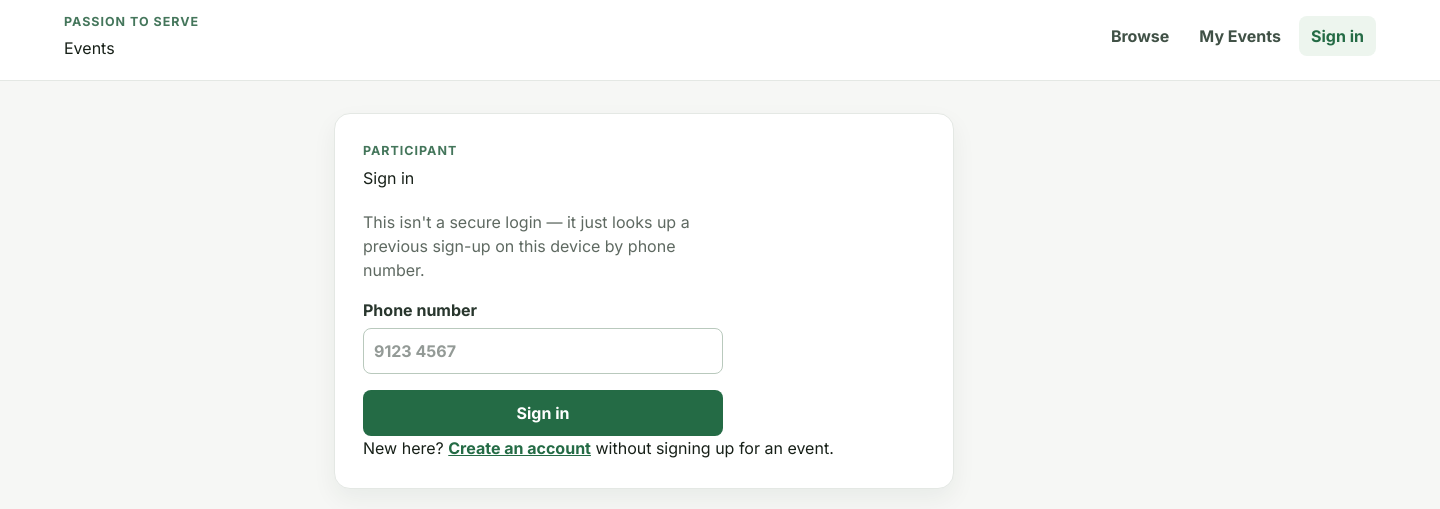
Test: Sign in › restores a returning participant's identity by phone number, without RSVPing
Type "+6591234567" into the field labelled "Phone number".
click(543, 351); type("+6591234567")  # box [363,328,723,374]
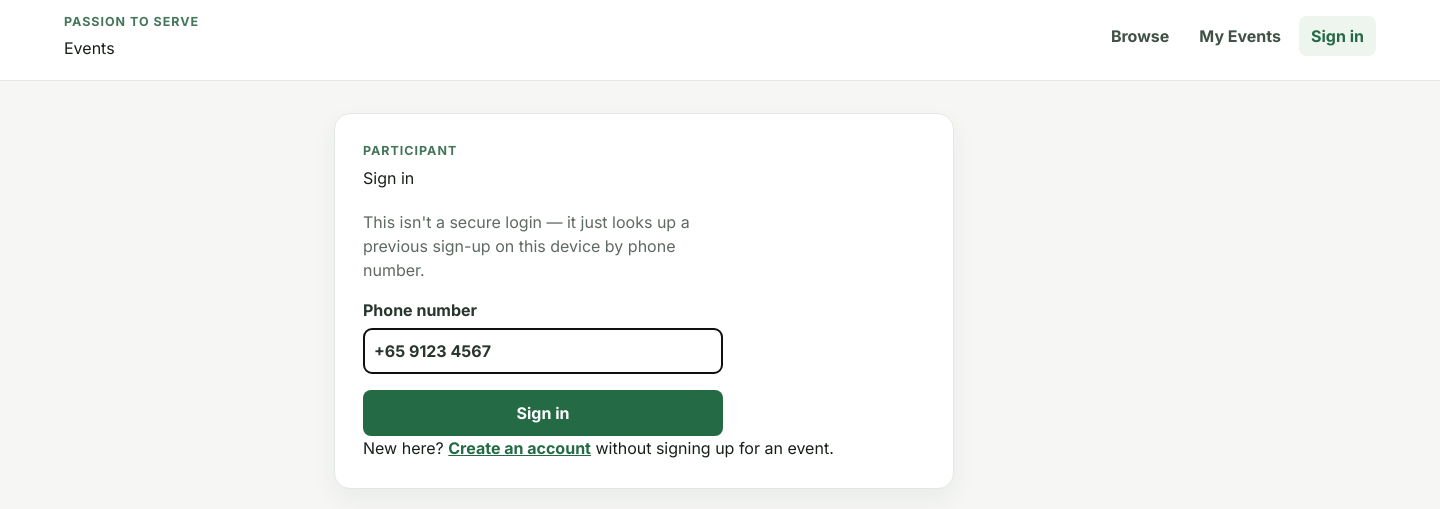
Click the button "Sign in".
click(543, 413)  # box [363,390,723,436]
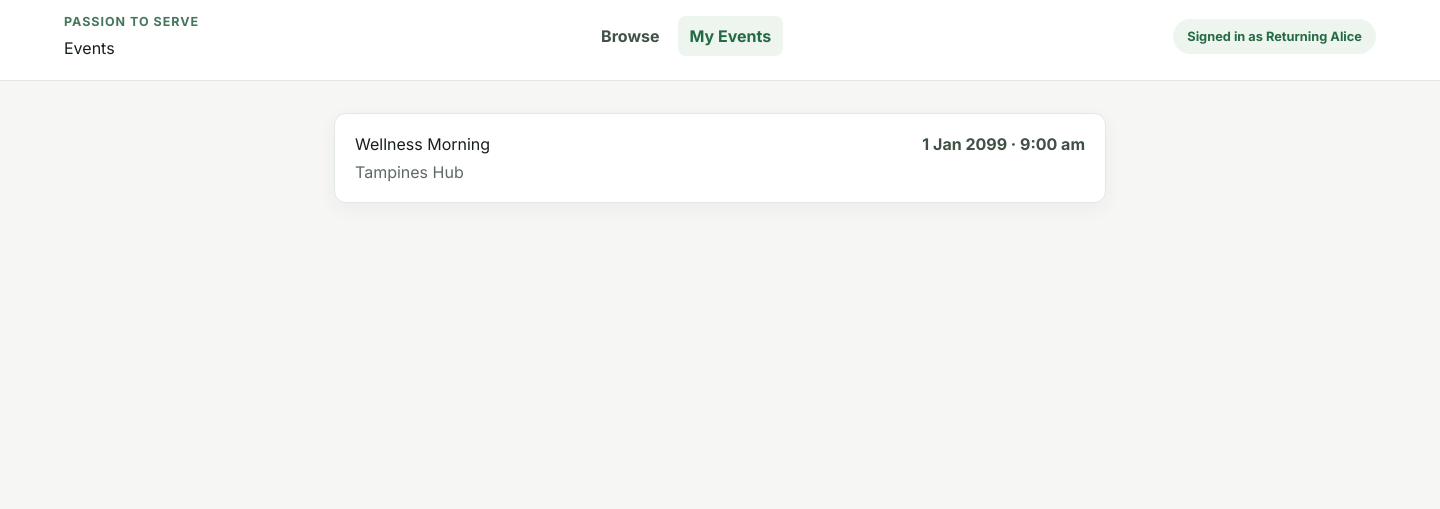
Check: the button "Signed in as Returning Alice" is shown, box [1173,19,1376,54]
